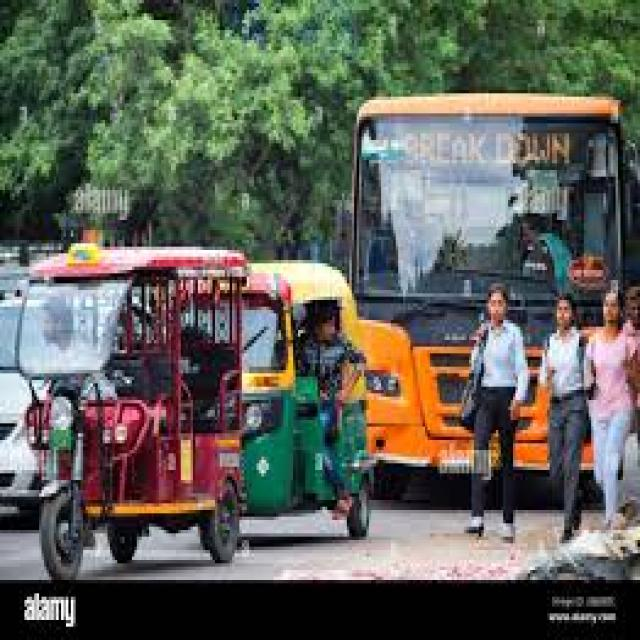bus: (388, 61, 630, 488)
tuktuk: (12, 215, 257, 580), (266, 242, 365, 556)
